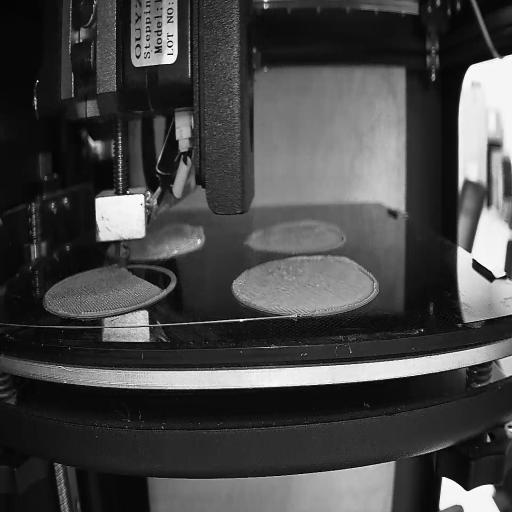over_extrusion: (358, 259, 380, 307)
